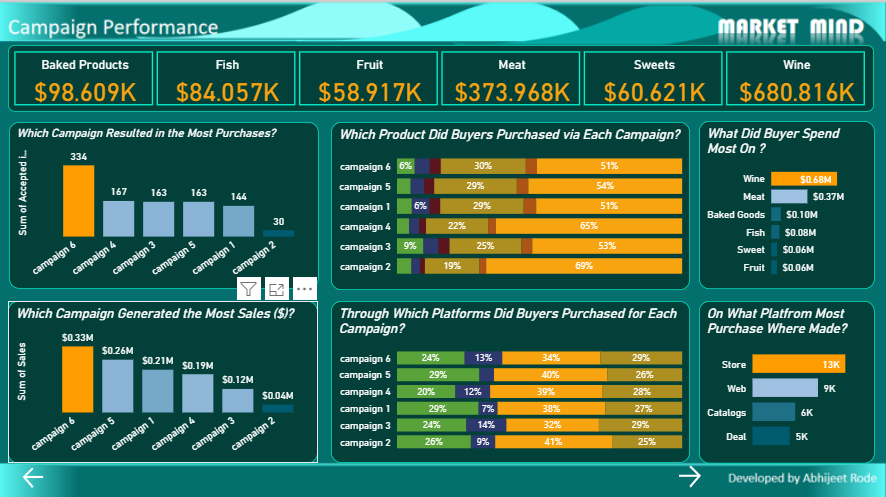

Layout of this report page (visuals, bound fields, positions):
{"tool":"powerbi","page":{"name":"Campaing Performance","canvas":[1280,720],"ordinal":1},"visuals":[{"type":"clusteredColumnChart","title":"Which Campaign Resulted in the Most Purchases?","fields":{"Category":["Campaign.Campaign"],"Y":["Sum(Campaign.Accepted_ind)"]},"box":[14,176,446,240],"z":0},{"type":"clusteredColumnChart","title":"Which Campaign Generated the Most Sales ($)?","fields":{"Y":["Sum(Products.Sales)"],"Category":["Campaign.Campaign"]},"box":[13.3,433.1,446.4,233.5],"z":1000},{"type":"hundredPercentStackedBarChart","title":"Which Product Did Buyers Purchased via Each Campaign?","fields":{"Category":["Campaign.Campaign"],"Y":["Sum(Products.Sales)"],"Series":["Products.Product"]},"box":[478.3,175,516.7,241.7],"z":2000},{"type":"barChart","title":"What Did Buyer Spend Most On ?","fields":{"Category":["Products.Product"],"Y":["Sum(Products.Sales)"]},"box":[1008,174.4,252.7,242.4],"z":3000},{"type":"hundredPercentStackedBarChart","title":"Through Which Platforms Did Buyers Purchased for Each Campaign?","fields":{"Category":["Campaign.Campaign"],"Y":["Sum(Platform.Quntity)"],"Series":["Platform.Platform"]},"box":[478.3,433.3,516.7,233.3],"z":4000},{"type":"barChart","title":"On What Platfrom Most Purchase Where Made?","fields":{"Category":["Platform.Platform"],"Y":["Sum(Platform.Quntity)"]},"box":[1008,433.1,252.7,233.5],"z":5000},{"type":"cardVisual","fields":{"Data":["Campaign.Baked Product","Campaign.Fish","Campaign.Fruit","Campaign.Meat","Campaign.Sweets","Campaign.Wine"]},"box":[13.3,65,1247.5,96.1],"z":6000},{"type":"actionButton","box":[925.1,667.1,101.9,41.1],"z":7000},{"type":"actionButton","box":[0,668.8,100.2,39.4],"z":8000}]}

Visuals, with their boxes in screenshot pixels (x1, y1, x2, y2), scaled from the page's 1280x720 canvas onto the 886x497 screenshot:
"Which Campaign Resulted in the Most Purchases?" clusteredColumnChart: (10, 121, 318, 287)
"Which Campaign Generated the Most Sales ($)?" clusteredColumnChart: (9, 299, 318, 460)
"Which Product Did Buyers Purchased via Each Campaign?" hundredPercentStackedBarChart: (331, 121, 689, 288)
"What Did Buyer Spend Most On ?" barChart: (698, 120, 873, 288)
"Through Which Platforms Did Buyers Purchased for Each Campaign?" hundredPercentStackedBarChart: (331, 299, 689, 460)
"On What Platfrom Most Purchase Where Made?" barChart: (698, 299, 873, 460)
cardVisual - Campaign.Baked Product x Campaign.Fish: (9, 45, 873, 111)
actionButton: (640, 460, 711, 489)
actionButton: (0, 462, 69, 489)
